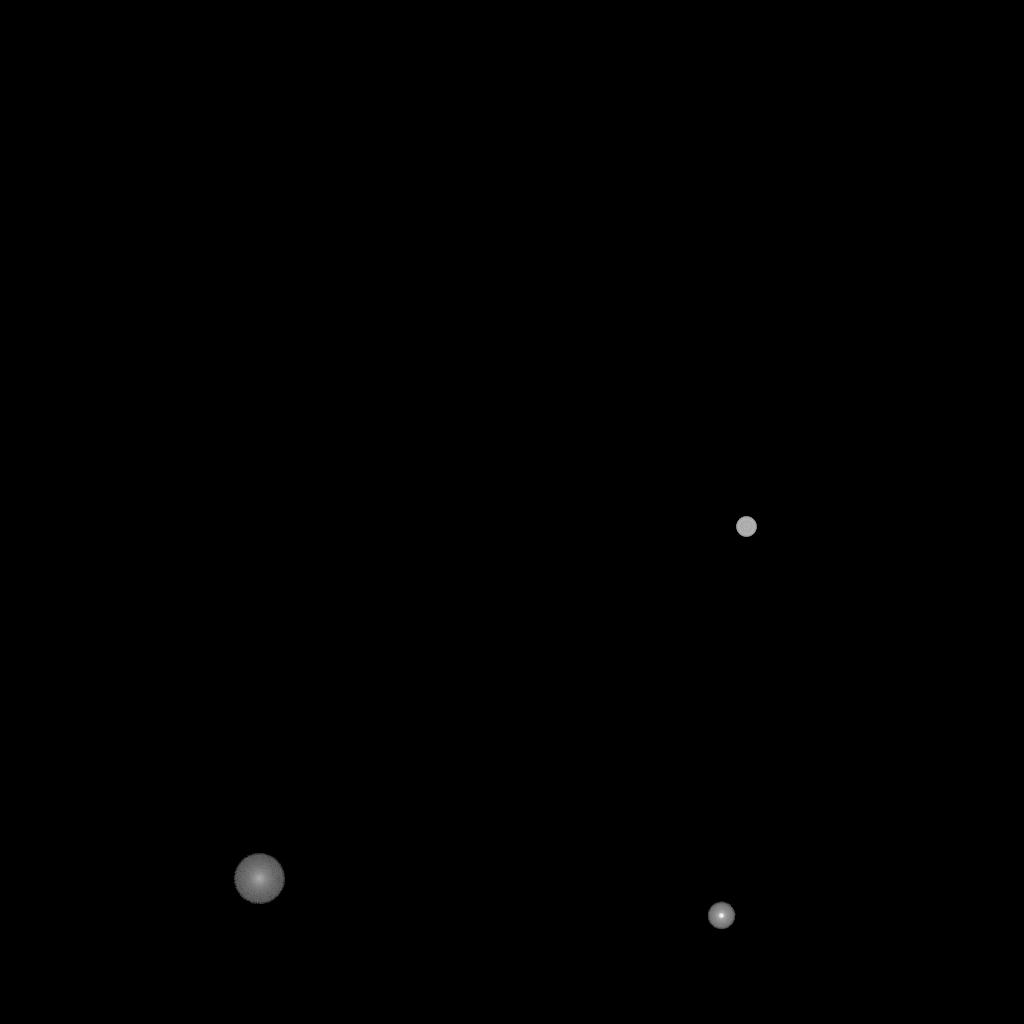depth:-10: (707, 902, 735, 930)
depth:-40: (736, 517, 756, 537)
depth:20: (233, 854, 285, 904)
